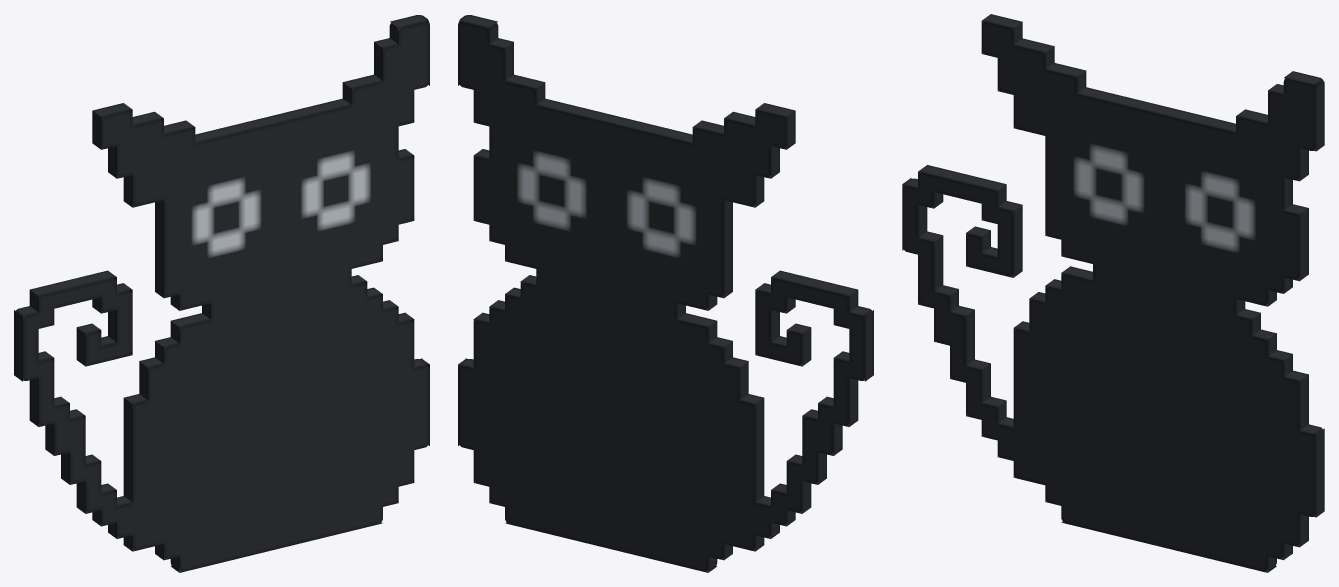
The model's file is cat2B.fbx.
3 renders of one model, left to right at view 1: azimuth 30°, elevation 25°; view 2: azimuth 150°, elevation 25°; view 3: azimuth 330°, elevation 25°, orthographic.
Parts seen in each view (by area): view 1: generated; view 2: generated; view 3: generated.
Boxes of the visible parts, box(x1,y1,x2,y2) form: generated: box(14, 15, 429, 572); generated: box(458, 15, 873, 572); generated: box(902, 14, 1324, 572).
Bounding box in the file's own units: 260 × 300 × 10.
